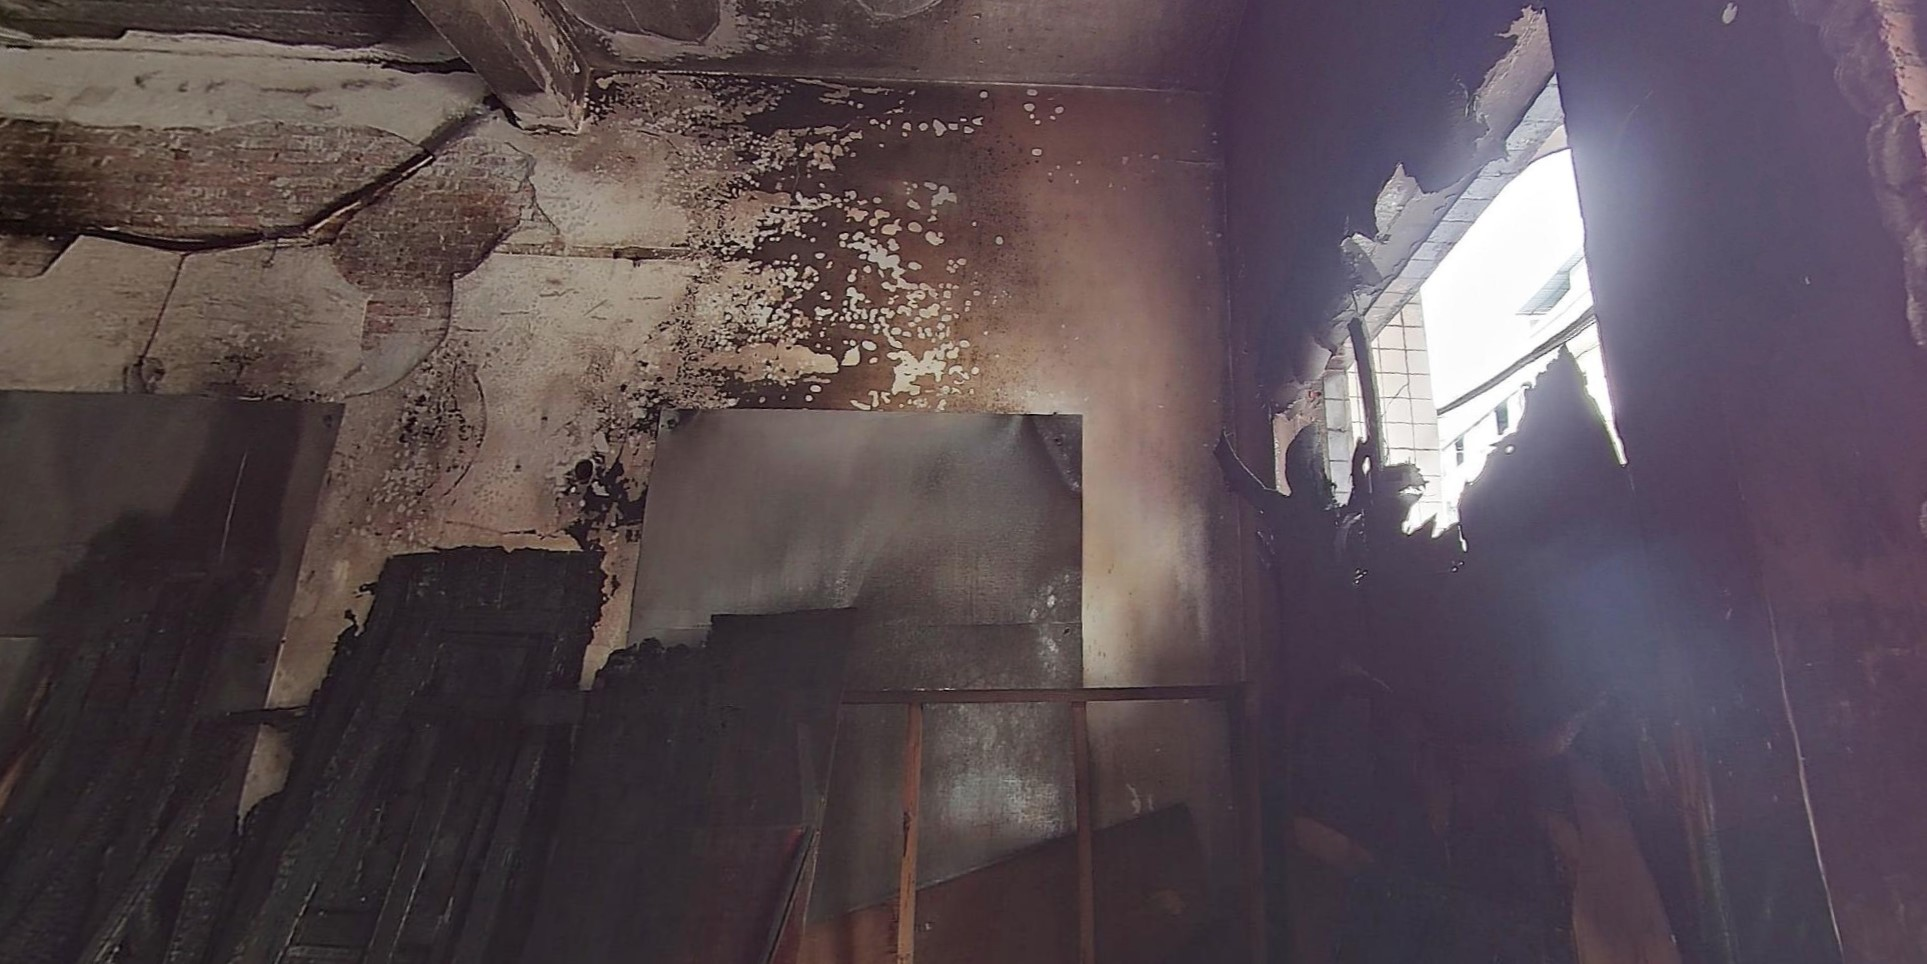Damage_level1: (1601, 18, 1850, 478), (1767, 520, 1913, 815), (1026, 199, 1198, 437), (780, 9, 1208, 85), (1244, 41, 1410, 224), (1097, 475, 1215, 679)
Damage_level2: (712, 91, 1000, 408), (343, 387, 509, 541), (584, 300, 698, 405), (1020, 85, 1124, 189), (546, 138, 676, 204)
Damage_level4: (2, 79, 525, 348), (540, 411, 633, 556)
